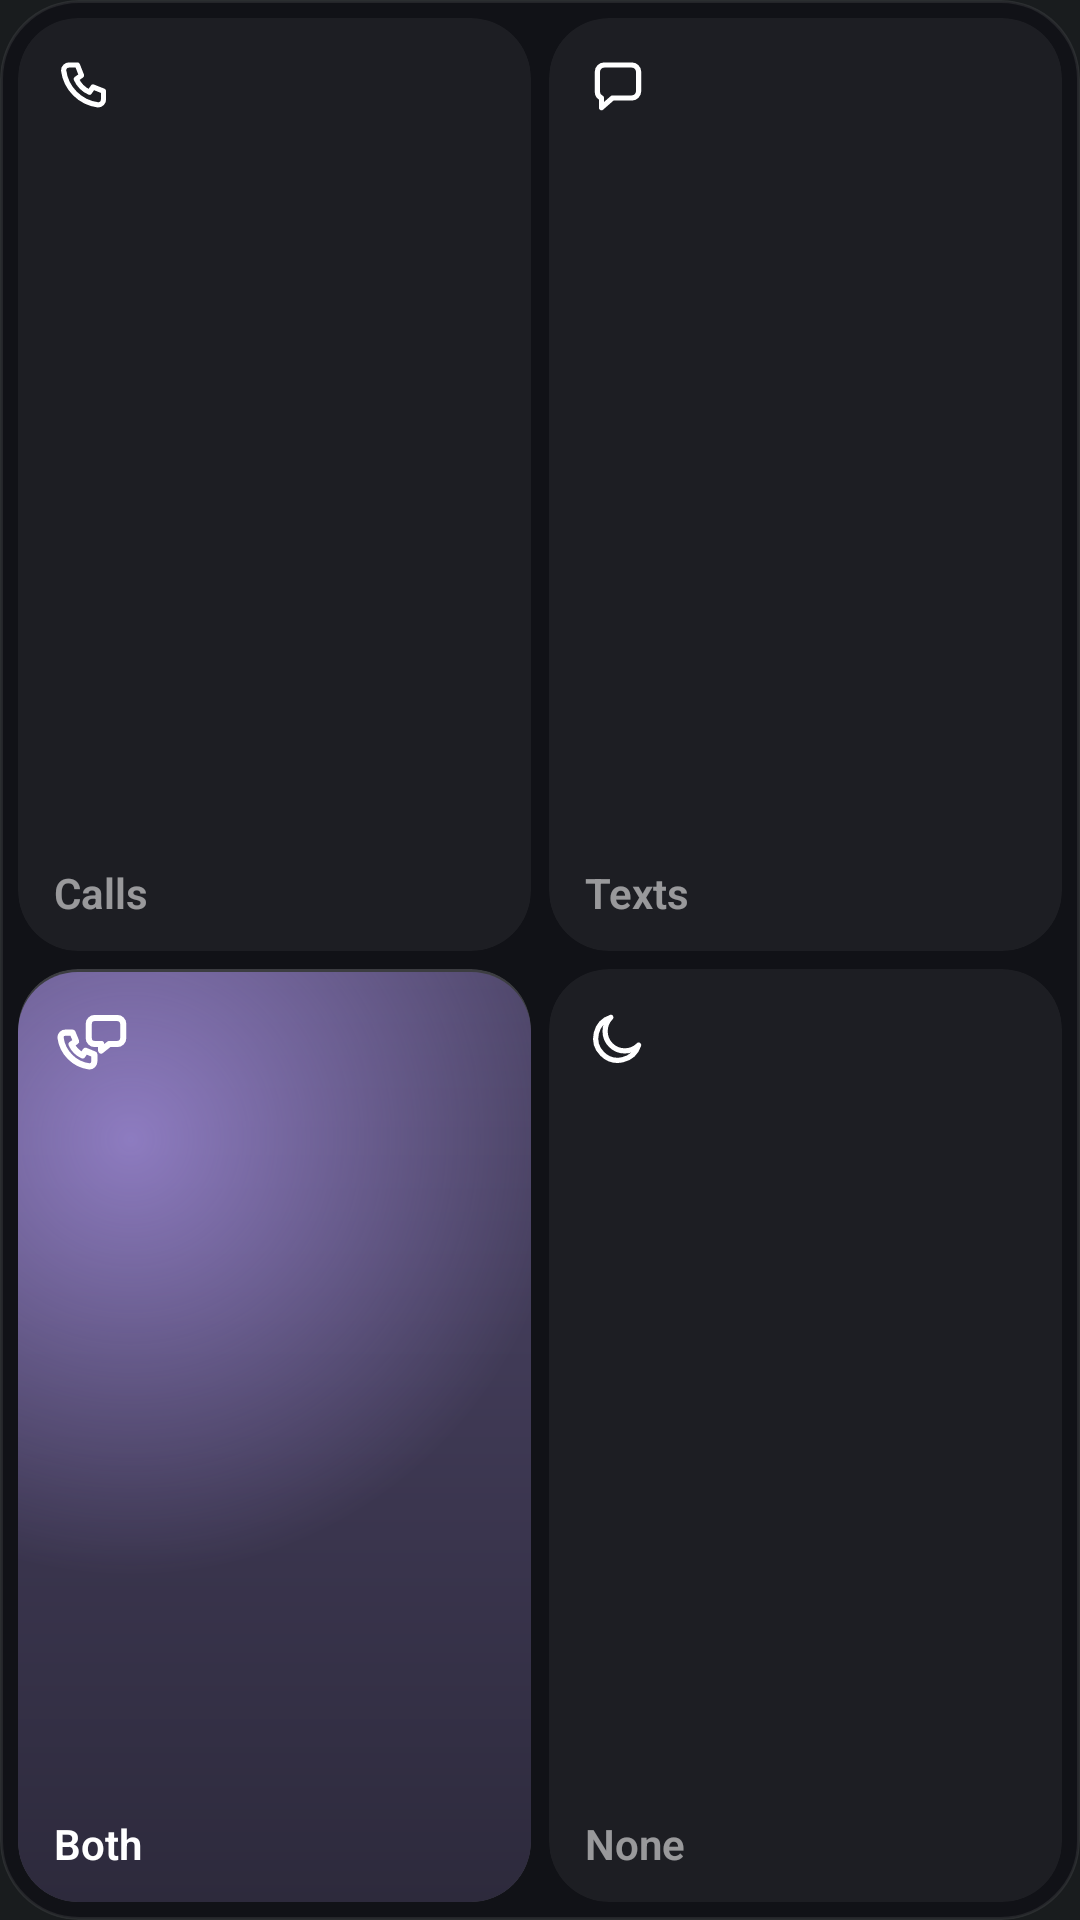

Named icons in this screenshot (1080px×1920px) and their centers, [x,y]:
glyph both: [92,1042]
glyph call: [83,85]
glyph none: [617,1038]
glyph text: [618,86]
